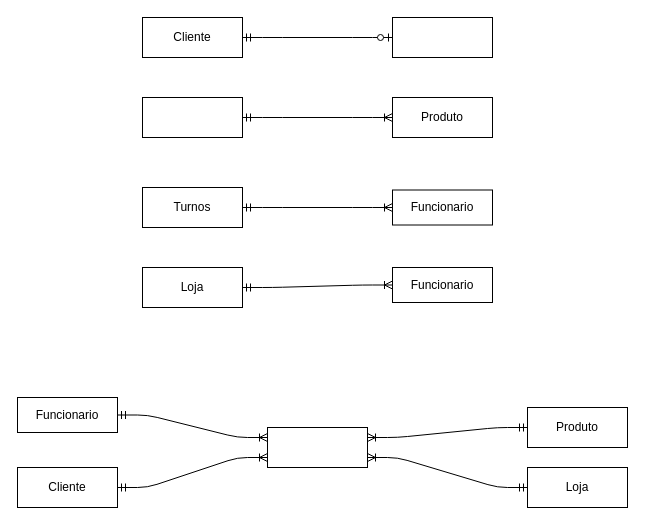
Some shapes in this 645 by 525 pixel diagram are drawn without their labels. Here are the shapes that lost their labels. From the top down, the centre of each, then its label:
At pixel 442 37: "Acesso".
At pixel 192 117: "Fornecedores".
At pixel 317 447: "Compra".
